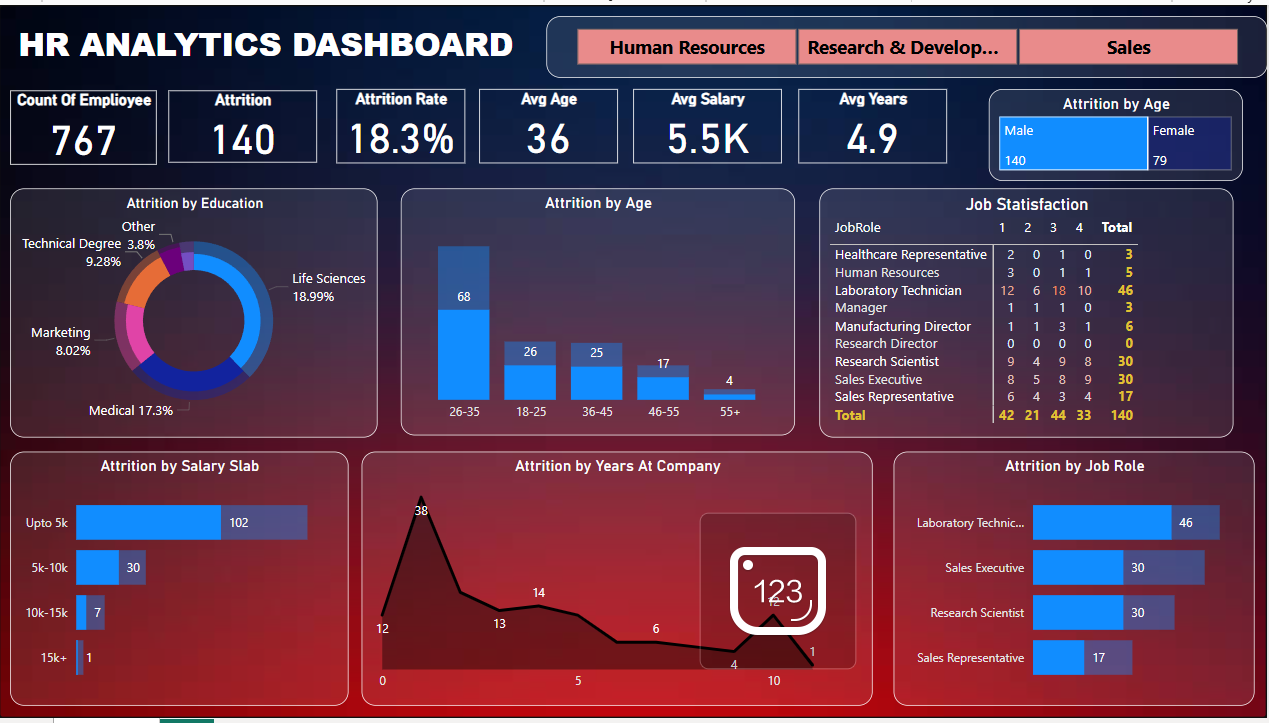

Layout of this report page (visuals, bound fields, positions):
{"tool":"powerbi","page":{"name":"Page 1","canvas":[1280,720],"ordinal":0},"visuals":[{"type":"card","title":"Count Of Emplioyee","fields":{"Values":["CountNonNull(HR_Analytics.EmpID)"]},"box":[11.6,86.5,148.1,74.9],"z":0},{"type":"card","title":"Attrition","fields":{"Values":["Sum(HR_Analytics.AttritionCount)"]},"box":[171.4,86.5,149.8,73.2],"z":1000},{"type":"card","title":"Attrition Rate","fields":{"Values":["HR_Analytics.AttritionRate"]},"box":[341.1,84.9,129.8,74.9],"z":2000},{"type":"card","title":"Avg Age","fields":{"Values":["Avg(HR_Analytics.Age)"]},"box":[484.2,84.9,139.8,74.9],"z":3000},{"type":"card","title":"Avg Salary","fields":{"Values":["Avg(HR_Analytics.MonthlyIncome)"]},"box":[640.6,84.9,149.8,74.9],"z":4000},{"type":"card","title":"Avg Years","fields":{"Values":["Avg(HR_Analytics.YearsAtCompany)"]},"box":[807,84.9,149.8,74.9],"z":5000},{"type":"donutChart","title":"Attrition by Education","fields":{"Category":["HR_Analytics.EducationField"],"Y":["Sum(HR_Analytics.AttritionCount)"]},"box":[11.6,184.7,371,251.2],"z":6000},{"type":"columnChart","title":"Attrition by Age","fields":{"Category":["HR_Analytics.AgeGroup"],"Y":["Sum(HR_Analytics.AttritionCount)"]},"box":[406,184.7,397.7,249.6],"z":7000},{"type":"pivotTable","title":"Job Statisfaction","fields":{"Rows":["HR_Analytics.JobRole"],"Columns":["HR_Analytics.JobSatisfaction"],"Values":["Sum(HR_Analytics.AttritionCount)"]},"box":[828.6,184.7,417.6,251.2],"z":8000},{"type":"barChart","title":"Attrition by Salary Slab","fields":{"Category":["HR_Analytics.SalarySlab"],"Y":["Sum(HR_Analytics.AttritionCount)"]},"box":[11.6,450.9,341.1,256.2],"z":9000},{"type":"barChart","title":"Attrition by Job Role","fields":{"Category":["HR_Analytics.JobRole"],"Y":["Sum(HR_Analytics.AttritionCount)"]},"box":[903.5,450.9,364.4,256.2],"z":10000},{"type":"areaChart","title":"Attrition by Years At Company","fields":{"Category":["HR_Analytics.YearsAtCompany"],"Y":["Sum(HR_Analytics.AttritionCount)"]},"box":[366.1,450.9,515.8,256.2],"z":11000},{"type":"treemap","title":"Attrition by Age","fields":{"Group":["HR_Analytics.Gender"],"Values":["Sum(HR_Analytics.AttritionCount)"]},"box":[998.3,84.9,256.2,93.2],"z":12000},{"type":"slicer","title":"Department","fields":{"Values":["HR_Analytics.Department"]},"box":[539.1,11.6,728.8,61.6],"z":13000},{"type":"textbox","box":[0,11.6,524.1,61.6],"z":14000}]}

Visuals, with their boxes in screenshot pixels (x1, y1, x2, y2), scaled from the page's 1280x720 canvas onto the 1269x723 screenshot:
"Count Of Emplioyee" card: bbox(12, 87, 158, 162)
"Attrition" card: bbox(170, 87, 318, 160)
"Attrition Rate" card: bbox(338, 85, 467, 160)
"Avg Age" card: bbox(480, 85, 619, 160)
"Avg Salary" card: bbox(635, 85, 784, 160)
"Avg Years" card: bbox(800, 85, 949, 160)
"Attrition by Education" donutChart: bbox(12, 185, 379, 438)
"Attrition by Age" columnChart: bbox(403, 185, 797, 436)
"Job Statisfaction" pivotTable: bbox(821, 185, 1235, 438)
"Attrition by Salary Slab" barChart: bbox(12, 453, 350, 710)
"Attrition by Job Role" barChart: bbox(896, 453, 1257, 710)
"Attrition by Years At Company" areaChart: bbox(363, 453, 874, 710)
"Attrition by Age" treemap: bbox(990, 85, 1244, 179)
"Department" slicer: bbox(534, 12, 1257, 74)
textbox: bbox(0, 12, 520, 74)
